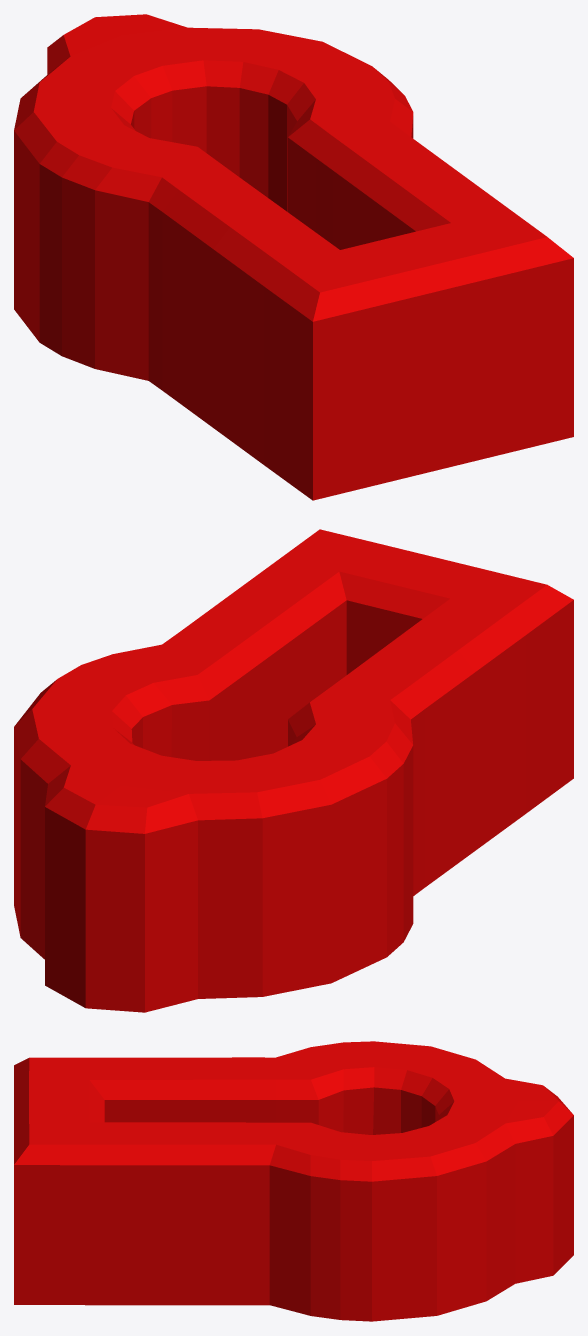
File: Keyhole2.fbx
3 views of the same model, one above another, from view 1: azimuth 30°, elevation 25°; view 2: azimuth 150°, elevation 25°; view 3: azimuth 270°, elevation 25° (orthographic). The views are drawn at different scales.
Parts seen in each view (by area): view 1: Plane; view 2: Plane; view 3: Plane.
Boxes of the visible parts, x1,y1,x2,y2 form: Plane: (14,14,573,500); Plane: (14,529,573,1012); Plane: (14,1041,573,1321).
Bounding box in the file's own units: 3596 × 2019 × 1091.
